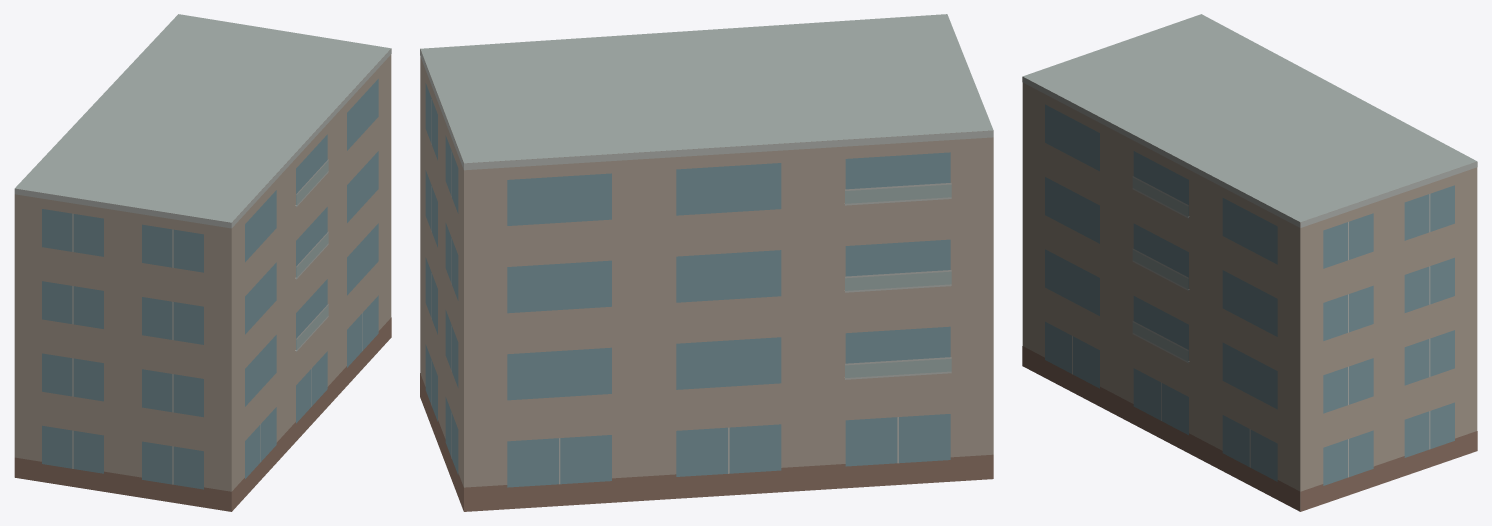
The model's file is survey-upis-32983979.glb.
3 views of the same model, side by side, from view 1: azimuth 30°, elevation 25°; view 2: azimuth 150°, elevation 25°; view 3: azimuth 270°, elevation 25° (orthographic). The views are drawn at different scales.
Visible parts, largest first — view 1: survey-upis-32983979.tmp; view 2: survey-upis-32983979.tmp; view 3: survey-upis-32983979.tmp.
Part boxes in pixels (bbox=[...]): survey-upis-32983979.tmp: bbox=[14, 14, 391, 511]; survey-upis-32983979.tmp: bbox=[420, 14, 993, 511]; survey-upis-32983979.tmp: bbox=[1022, 14, 1477, 511].
Bounding box in the file's own units: 18.83 × 12.2 × 17.38.
